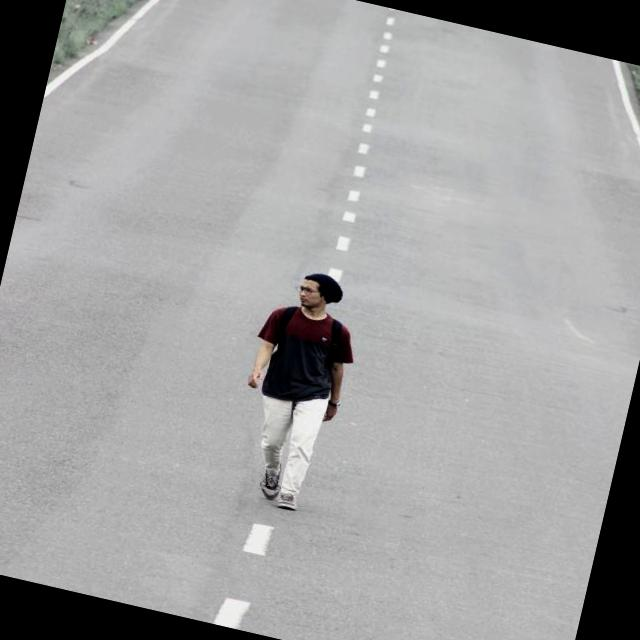person: (220, 261, 370, 515)
